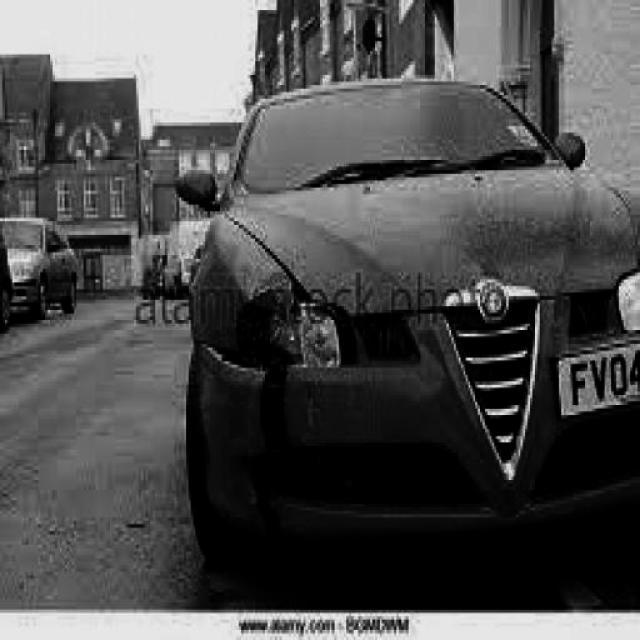car damage: (198, 246, 359, 545)
